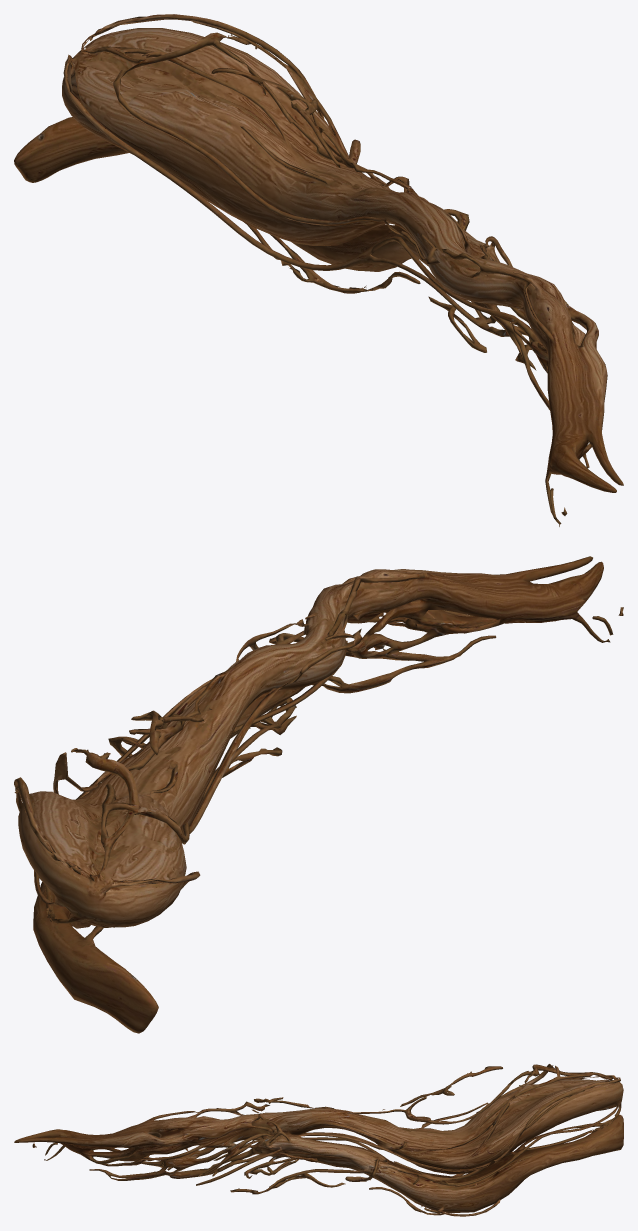
File: hair strands 3d model_Clone1.glb
3 views of the same model, one above another, from view 1: azimuth 30°, elevation 25°; view 2: azimuth 150°, elevation 25°; view 3: azimuth 270°, elevation 25° (orthographic). The views are drawn at different scales.
Visible parts, largest first — view 1: tripo_node_eb23510d; view 2: tripo_node_eb23510d; view 3: tripo_node_eb23510d.
Boxes of the visible parts, <box> form: tripo_node_eb23510d: <box>14,14,623,526</box>; tripo_node_eb23510d: <box>14,556,623,1033</box>; tripo_node_eb23510d: <box>14,1064,623,1216</box>.
Bounding box in the file's own units: 0.279 × 0.2296 × 0.9774.
Materials: 1 (1 with a texture image).
